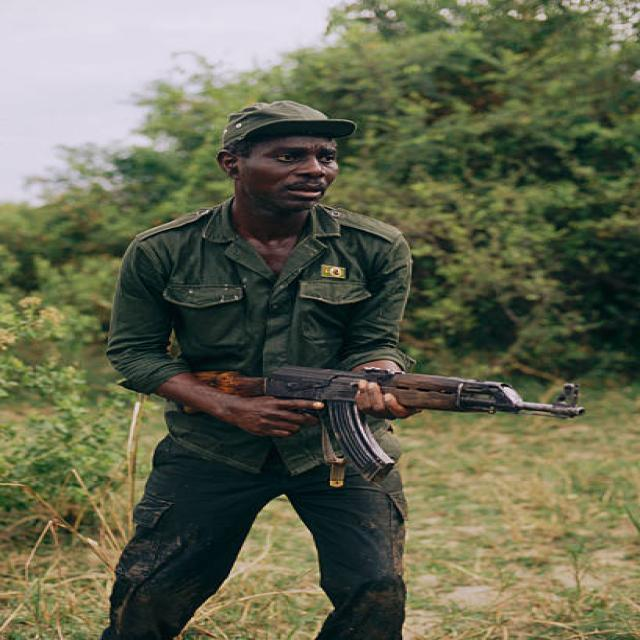Hunter: (104, 99, 422, 629)
Rifle: (186, 352, 595, 487)
